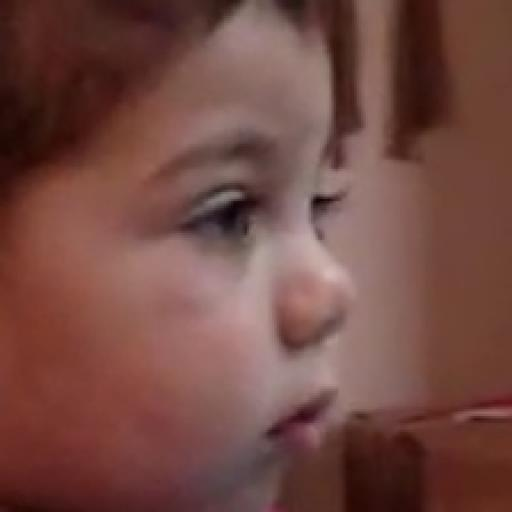Autism: (83, 35, 412, 512)
